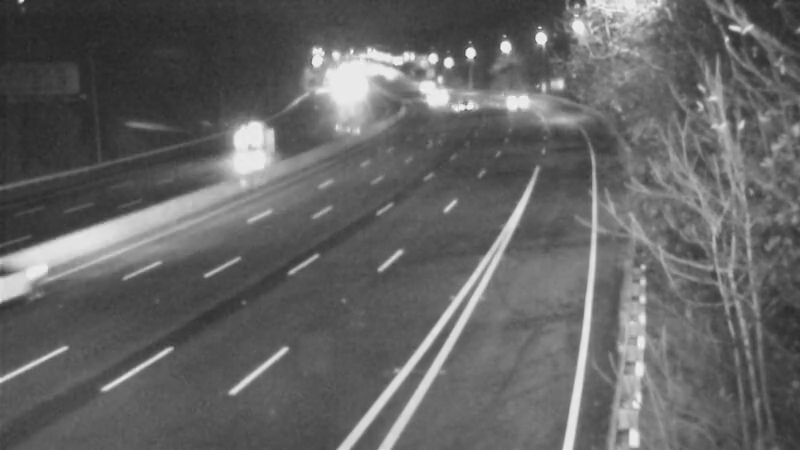vehicle: (398, 60, 448, 110), (485, 78, 535, 128), (407, 66, 457, 116), (435, 81, 485, 131), (219, 113, 269, 163)
